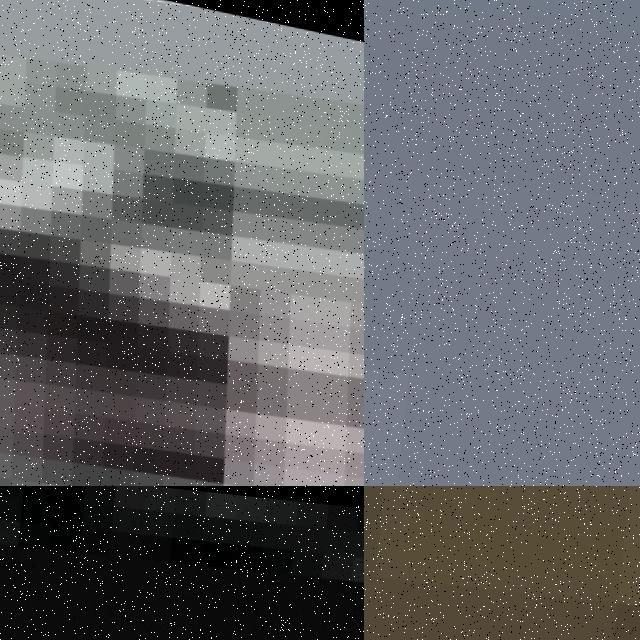drone: (0, 0, 364, 486)
